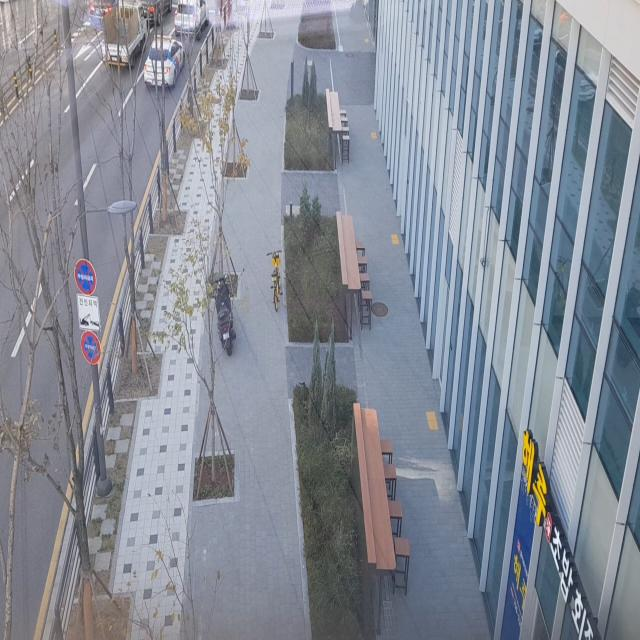Car: (142, 32, 192, 98), (170, 0, 216, 42), (133, 0, 178, 29), (89, 0, 120, 27)
Truck: (99, 0, 149, 73)
